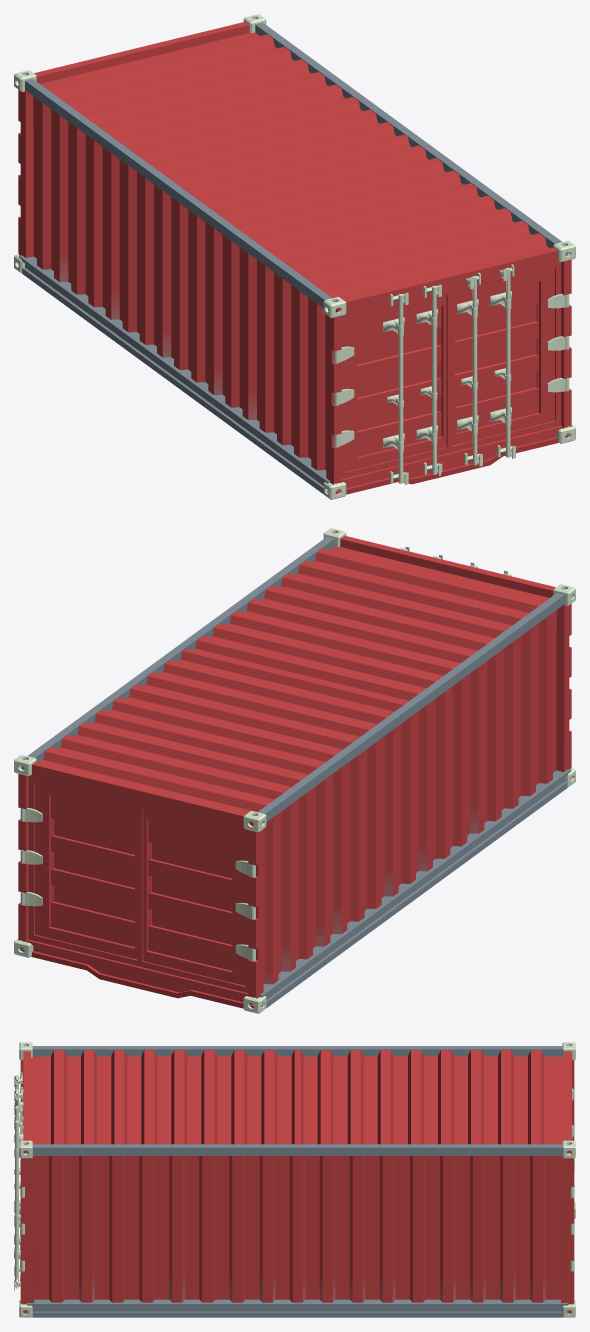
Rendered from shippingcontainer[red].fbx.
3 renders of one model, top to bottom at view 1: azimuth 30°, elevation 25°; view 2: azimuth 150°, elevation 25°; view 3: azimuth 270°, elevation 25°, orthographic. The views are drawn at different scales.
Parts seen in each view (by area): view 1: Red; view 2: Red; view 3: Red.
Part boxes in pixels (x1=…): Red: x1=14, y1=14, x2=575, y2=499; Red: x1=14, y1=528, x2=575, y2=1013; Red: x1=14, y1=1042, x2=575, y2=1317.
Bounding box in the file's own units: 277 × 623 × 216.
